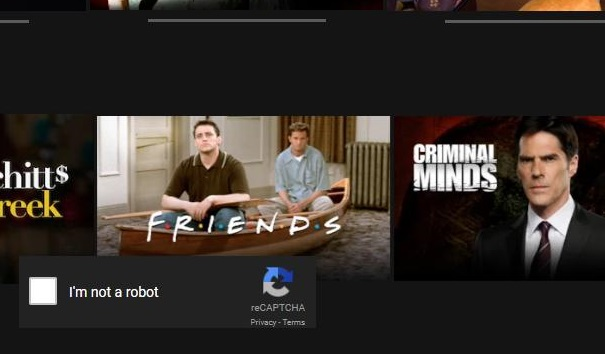captcha: (28, 276, 162, 306)
